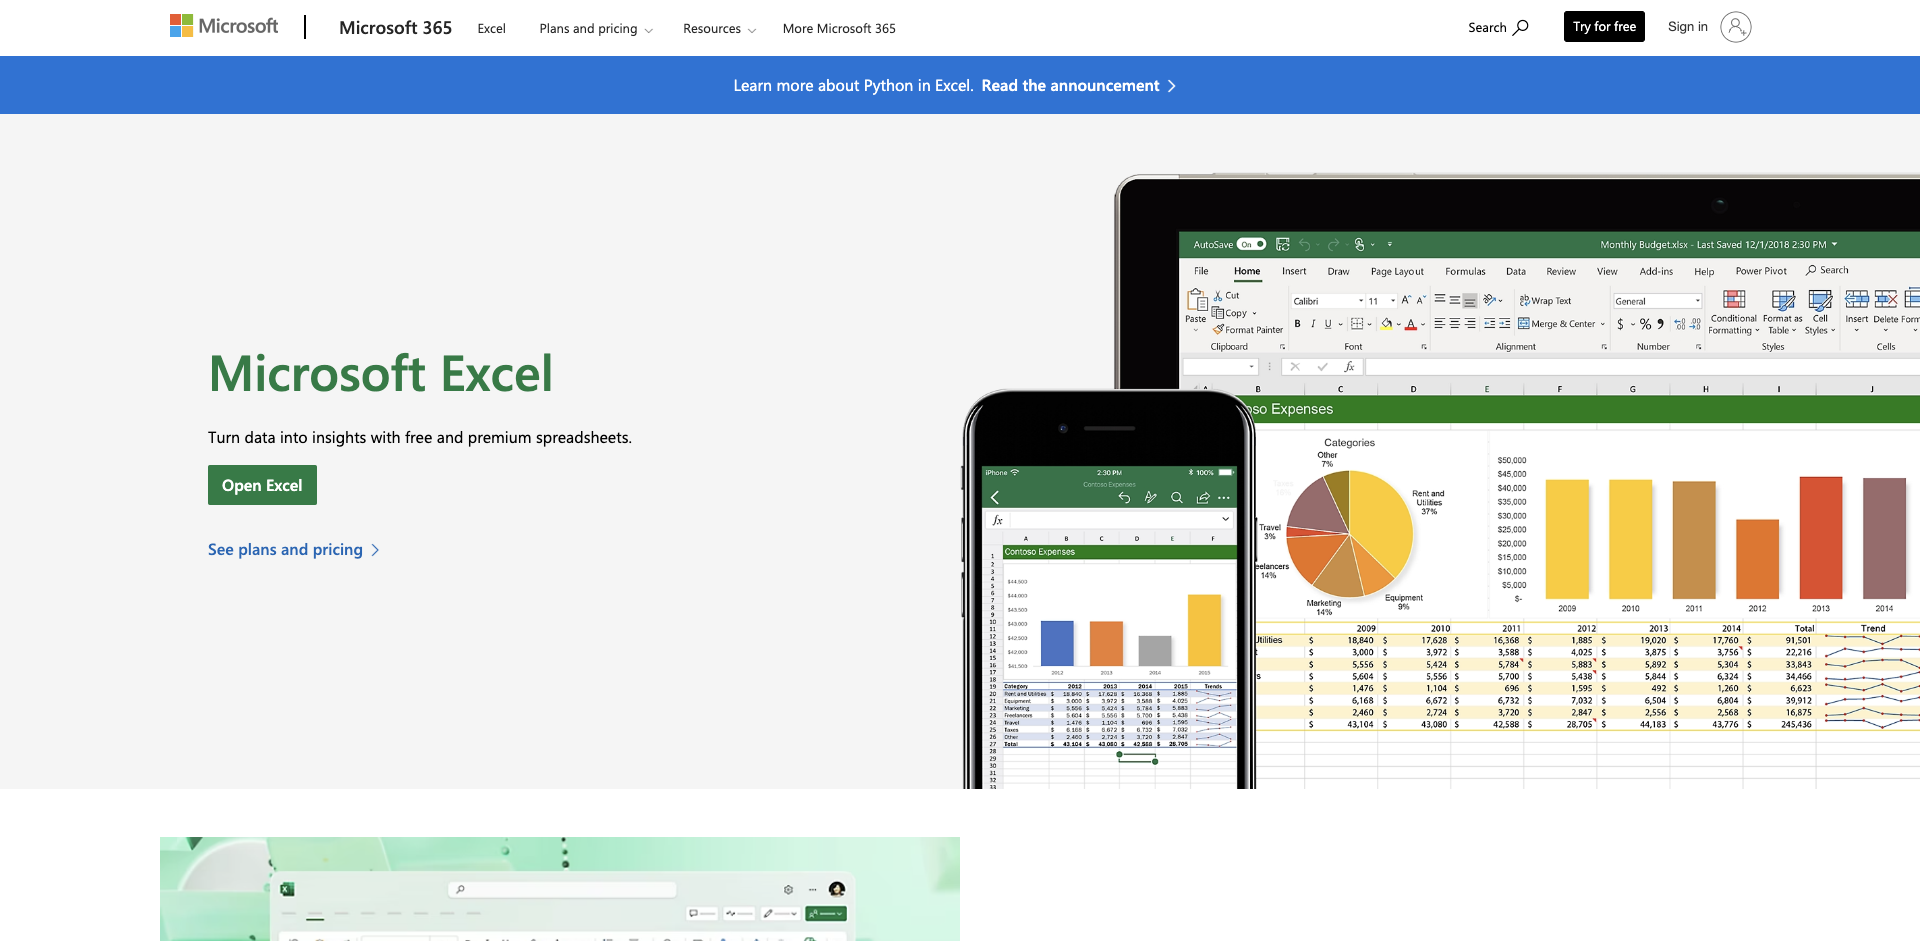button: (208, 461, 431, 500), (460, 461, 605, 500), (688, 1, 793, 54), (464, 1, 563, 54), (791, 1, 885, 54), (791, 510, 890, 545), (1242, 2, 1319, 48), (904, 510, 1002, 545), (1876, 386, 1911, 423), (1876, 430, 1911, 467), (1876, 474, 1911, 511), (1876, 518, 1911, 555), (1118, 336, 1135, 359)
link: (508, 872, 769, 912), (987, 872, 1215, 912), (769, 872, 987, 912), (1215, 872, 1412, 912), (160, 1, 298, 55), (329, 1, 463, 55), (564, 1, 681, 49), (1657, 2, 1760, 51), (1340, 1, 1435, 49), (1550, 13, 1646, 44), (1449, 13, 1531, 44), (791, 567, 896, 582)
menu_item: (561, 0, 684, 49), (688, 0, 789, 54), (1336, 0, 1439, 49), (464, 0, 557, 54), (1540, 2, 1656, 45), (791, 0, 879, 54), (1439, 2, 1540, 45)
